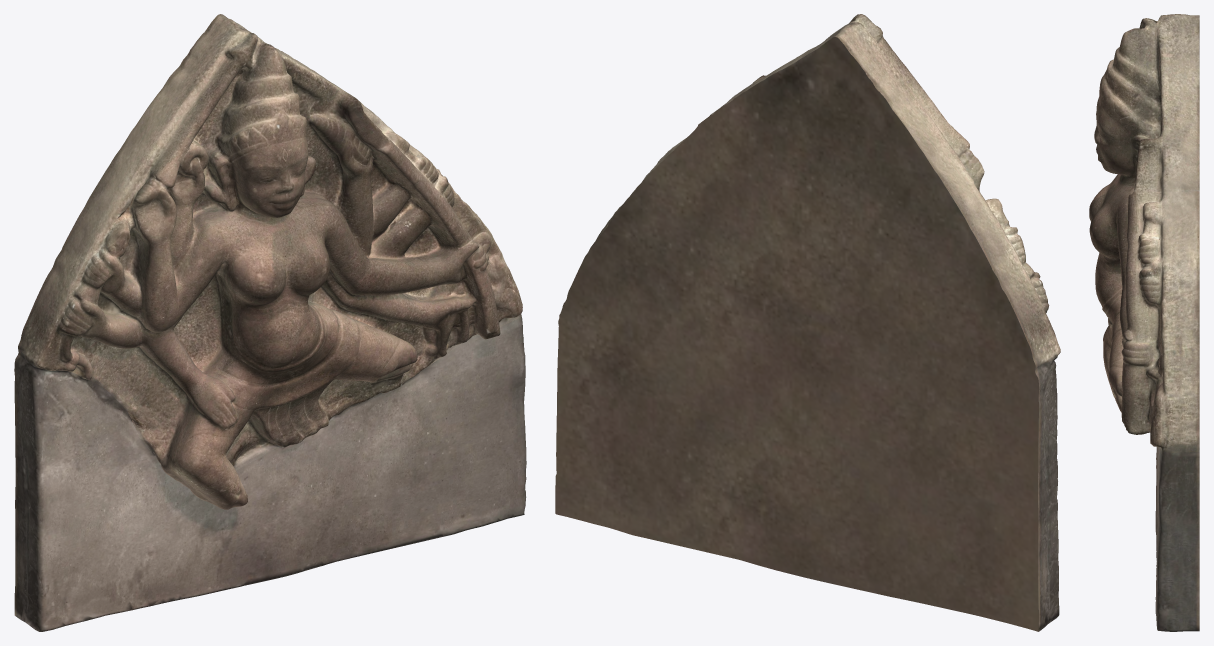
The model's file is 10_durga_final.glb.
3 views of the same model, side by side, from view 1: azimuth 30°, elevation 25°; view 2: azimuth 150°, elevation 25°; view 3: azimuth 270°, elevation 25° (orthographic). The views are drawn at different scales.
Bounding box in the file's own units: 0.8371 × 0.9068 × 0.1832.
1 material, 1 textured.
